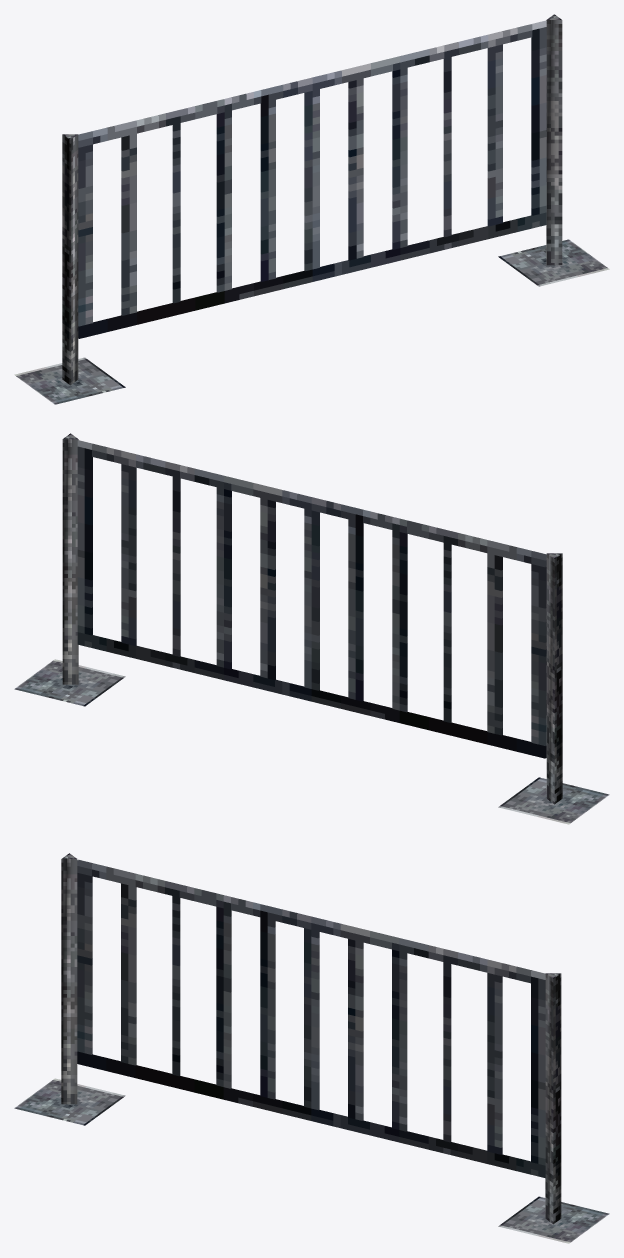
The model's file is Environment - Prop - Police Barracades - PMpolbar.glb.
The picture shows the model from 3 angles, top to bottom: view 1: azimuth 30°, elevation 25°; view 2: azimuth 150°, elevation 25°; view 3: azimuth 330°, elevation 25°; orthographic projection.
Parts seen in each view (by area): view 1: PMPOLBAR; view 2: PMPOLBAR; view 3: PMPOLBAR.
Part boxes in pixels (<box>): PMPOLBAR: <box>14,14,609,404</box>; PMPOLBAR: <box>14,433,609,824</box>; PMPOLBAR: <box>14,853,609,1243</box>.
Bounding box in the file's own units: 21.52 × 9.11 × 2.76.
Materials: 1 (1 with a texture image).
